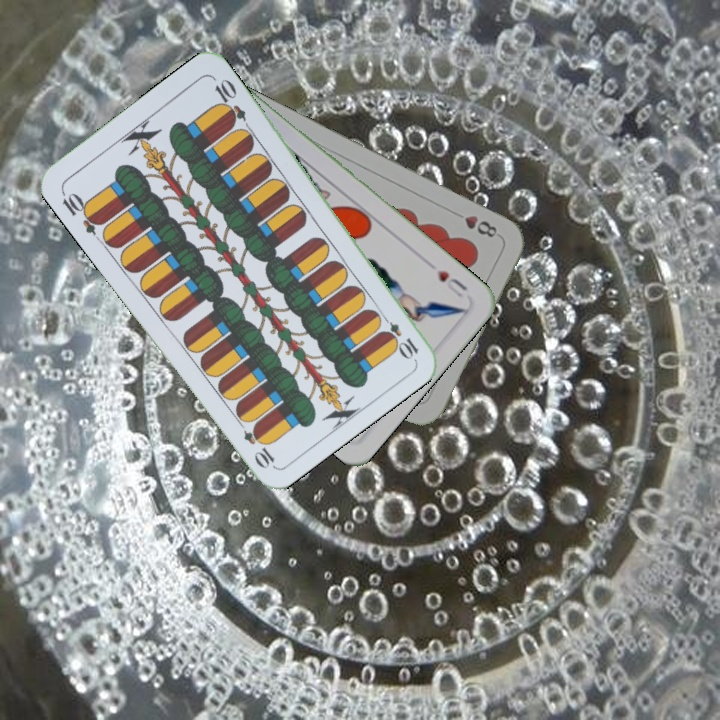E10: (57, 187, 106, 237), (375, 309, 421, 361)
H8: (448, 207, 500, 241)
HU: (433, 266, 470, 300)
